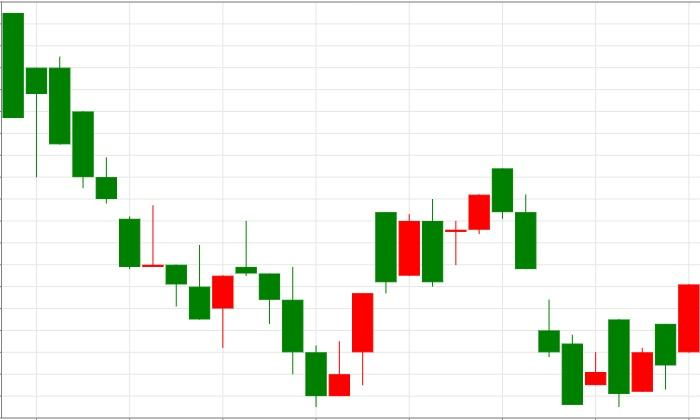three_black_crows_fall: (329, 169, 561, 396), (189, 221, 304, 375)
